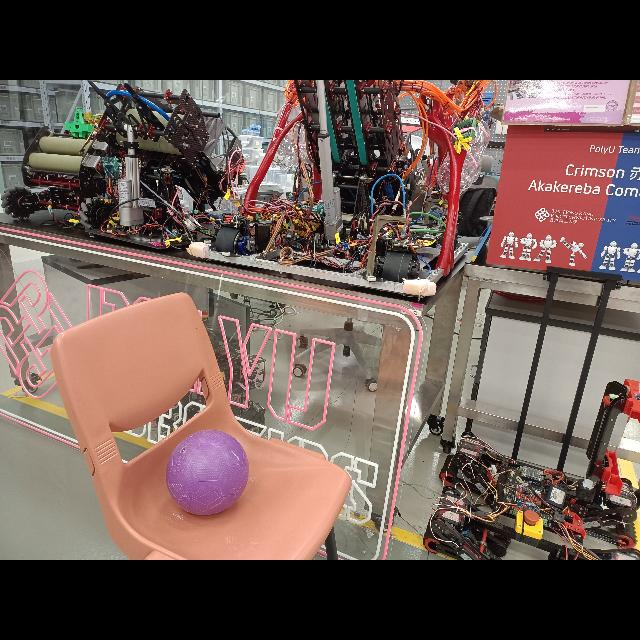P: (170, 427, 247, 518)
